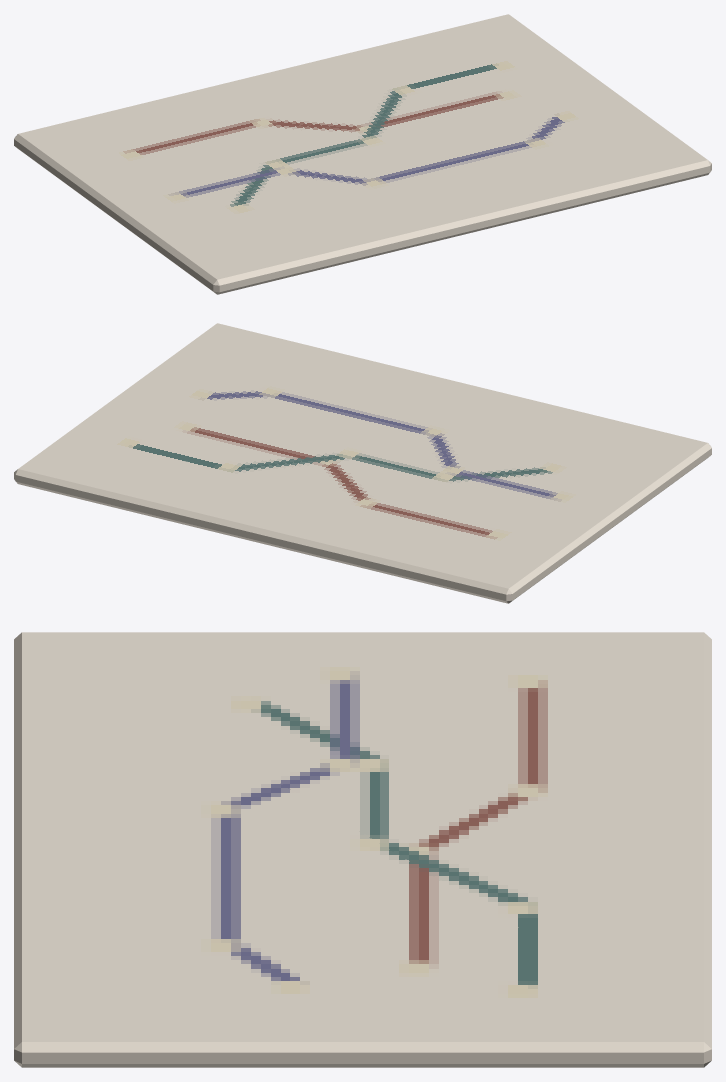
The model's file is subwaystationmap.glb.
3 renders of one model, top to bottom at view 1: azimuth 30°, elevation 25°; view 2: azimuth 150°, elevation 25°; view 3: azimuth 270°, elevation 25°, orthographic. The views are drawn at different scales.
Parts seen in each view (by area): view 1: block_schematic routes, block_folded route chart; view 2: block_schematic routes, block_folded route chart; view 3: block_schematic routes, block_folded route chart.
Part boxes in pixels (x1,y1,x2,y2): block_schematic routes: (45, 23, 678, 267); block_folded route chart: (14, 14, 711, 294); block_schematic routes: (46, 333, 679, 576); block_folded route chart: (14, 323, 711, 603); block_schematic routes: (52, 646, 676, 1022); block_folded route chart: (14, 632, 711, 1067).
Bounding box in the file's own units: 0.2495 × 0.0078 × 0.1767.
1 material, 1 textured.
